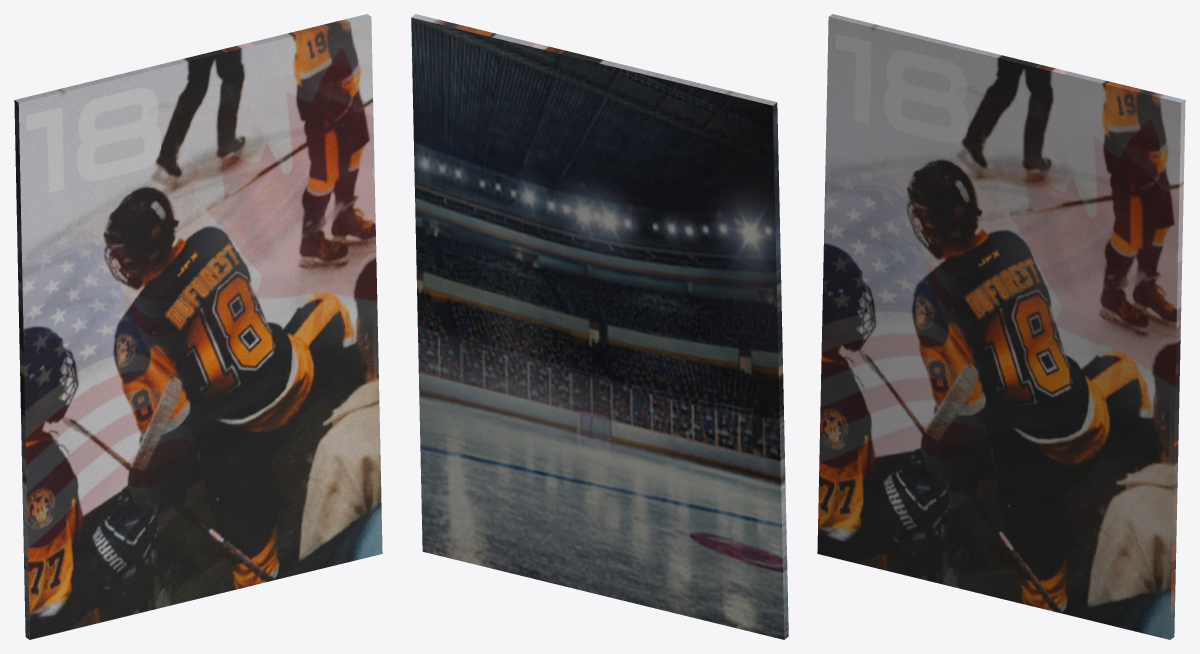
Rendered from mystery.glb.
3 renders of one model, left to right at view 1: azimuth 30°, elevation 25°; view 2: azimuth 150°, elevation 25°; view 3: azimuth 330°, elevation 25°, orthographic. The views are drawn at different scales.
Visible parts, largest first — view 1: Plane; view 2: Plane; view 3: Plane.
Boxes of the visible parts, x1=… form: Plane: x1=14, y1=14, x2=382, y2=639; Plane: x1=411, y1=14, x2=788, y2=639; Plane: x1=817, y1=14, x2=1185, y2=639.
Bounding box in the file's own units: 4.69 × 6.73 × 0.3559.
2 materials, 2 textured.
